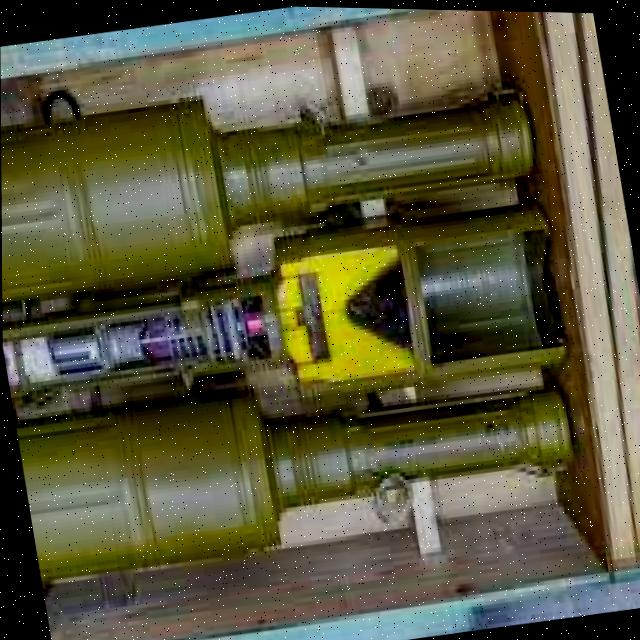grenade: (0, 41, 547, 330), (14, 339, 589, 596), (1, 184, 573, 442)
